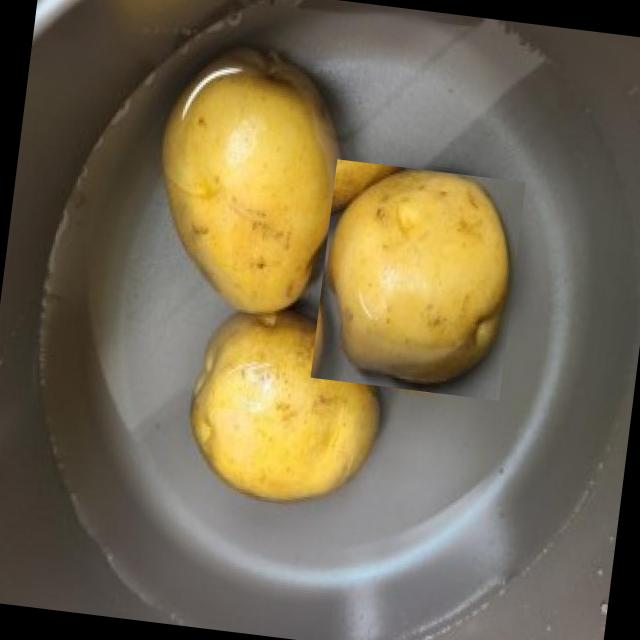Potato: (136, 34, 364, 334), (310, 158, 525, 400), (176, 288, 398, 512)
